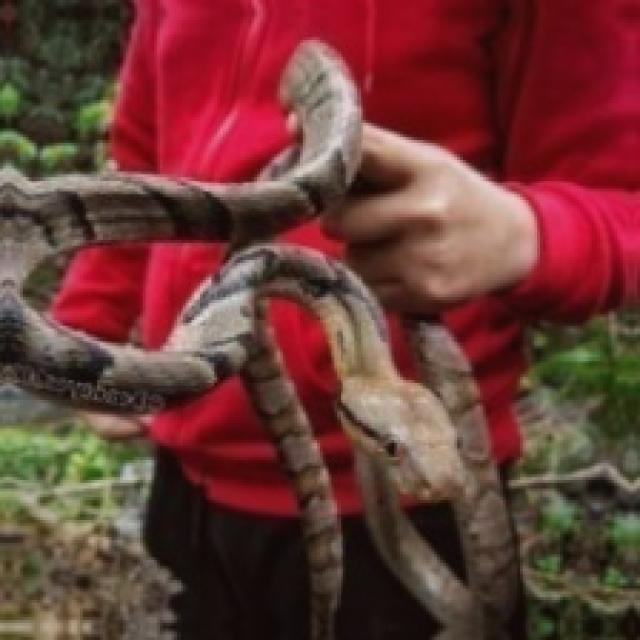dog-toothed cat snake: (0, 40, 537, 637)
